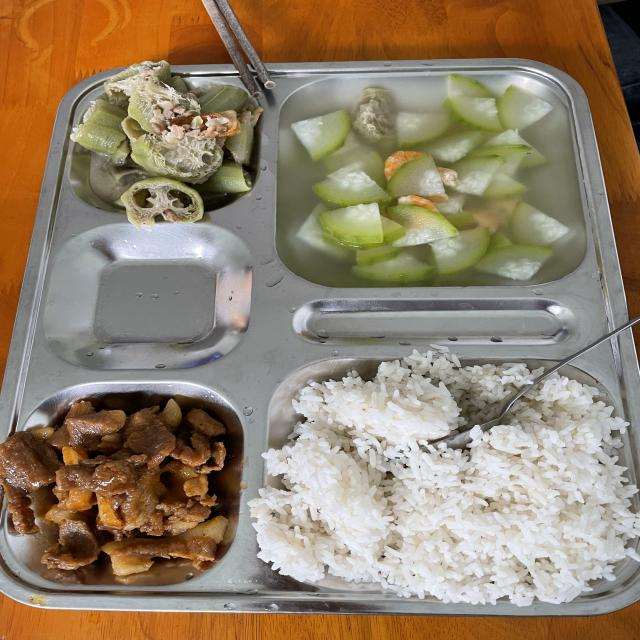com_trang: (306, 384, 618, 593)
thit_kho: (32, 412, 222, 573)
